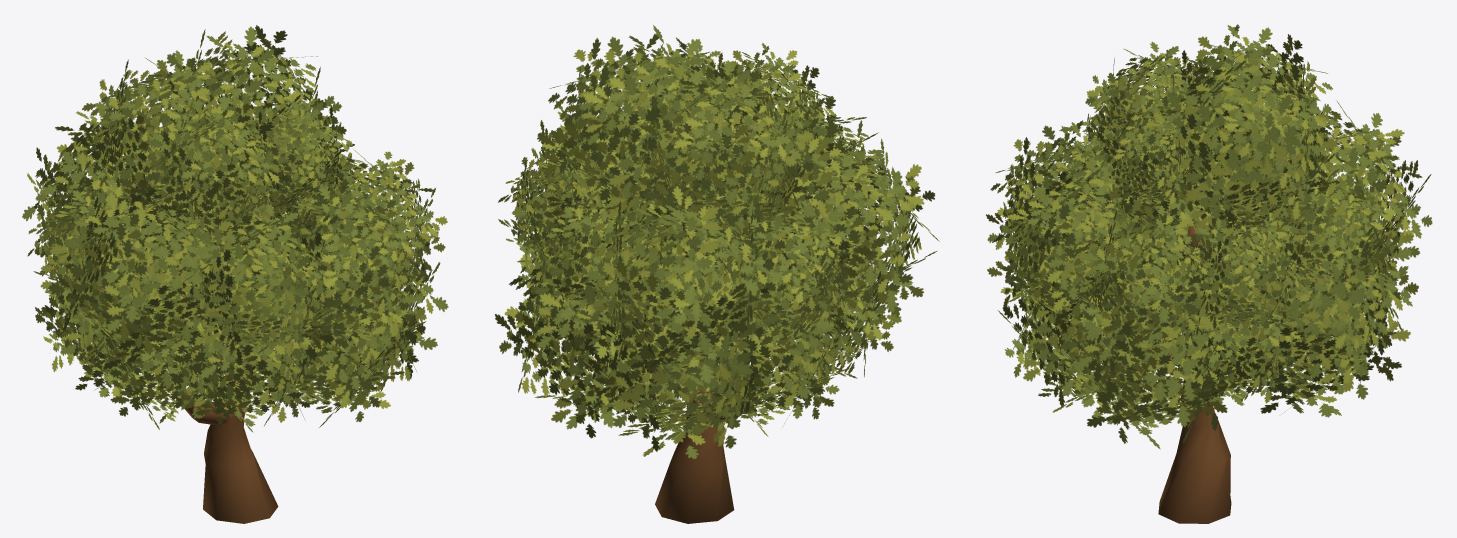
The model's file is Oak_Tree_1.glb.
The picture shows the model from 3 angles, left to right: view 1: azimuth 30°, elevation 25°; view 2: azimuth 150°, elevation 25°; view 3: azimuth 270°, elevation 25°; orthographic projection. The views are drawn at different scales.
Parts seen in each view (by area): view 1: Oak_Tree_1; view 2: Oak_Tree_1; view 3: Oak_Tree_1.
Boxes of the visible parts, x1,y1,x2,y2 form: Oak_Tree_1: (22,25,448,523); Oak_Tree_1: (495,25,939,523); Oak_Tree_1: (986,24,1432,523).
Size of the model in its own units: 6.79 by 7.74 by 6.88.
2 materials, 2 textured.
